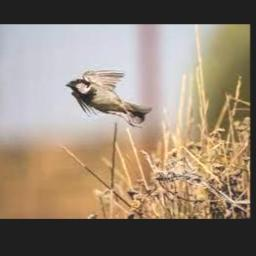Sparrow: (66, 69, 152, 128)
